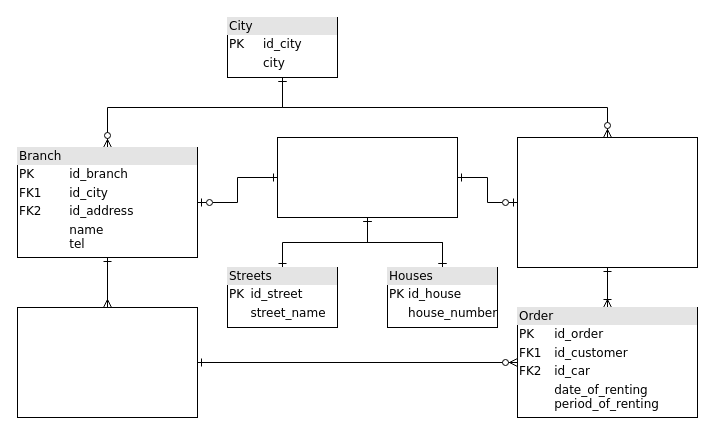
This 715x435 diagram has some shape labels left out. Each missing label, with the box of its shape:
Address PK id_address FK1 id_street FK2 id_house: (276, 136, 458, 218)
Car PK serial_number FK1 id_branch brand model price: (16, 306, 198, 418)
Customer PK id_customer FK1 id_city FK2 id_address first_name last_name tel: (516, 136, 698, 268)
